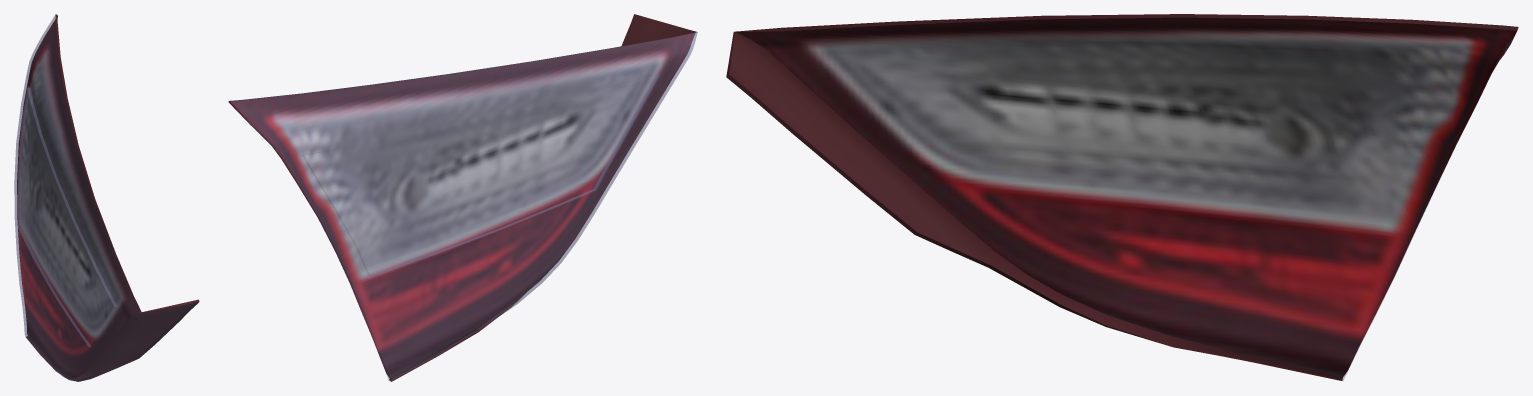
The picture shows the model from 3 angles, left to right: view 1: azimuth 30°, elevation 25°; view 2: azimuth 150°, elevation 25°; view 3: azimuth 270°, elevation 25°; orthographic projection. The views are drawn at different scales.
Visible parts, largest first — view 1: E317_541D_L_1_DTaSI_E317_541D_L, E317_541D_L_E317_541D_L_2_N; view 2: E317_541D_L_E317_541D_L_2_N, E317_541D_L_1_DTaSI_E317_541D_L; view 3: E317_541D_L_E317_541D_L_2_N.
Boxes of the visible parts, x1,y1,x2,y2 form: E317_541D_L_1_DTaSI_E317_541D_L: (14, 15, 198, 381); E317_541D_L_E317_541D_L_2_N: (17, 14, 199, 381); E317_541D_L_E317_541D_L_2_N: (228, 14, 696, 381); E317_541D_L_1_DTaSI_E317_541D_L: (229, 32, 697, 381); E317_541D_L_E317_541D_L_2_N: (726, 14, 1518, 380).
Size of the model in its own units: 10.44 by 15.93 by 27.23.
